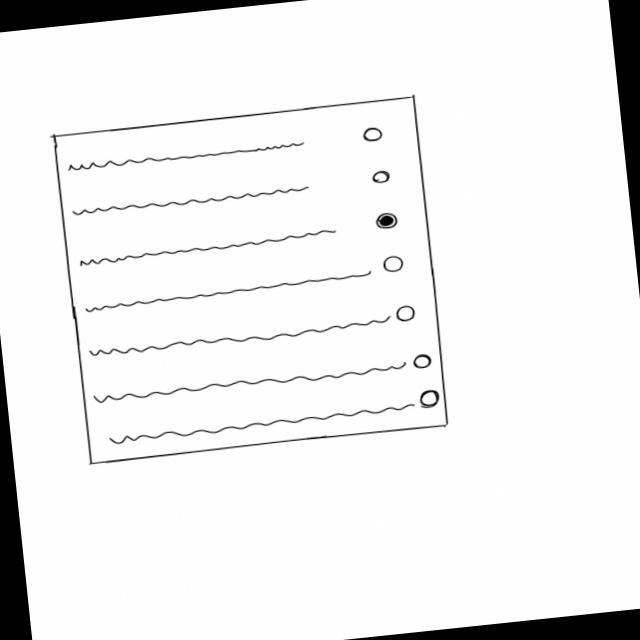container: (49, 94, 453, 469)
radio: (82, 253, 410, 317), (78, 209, 404, 271), (107, 387, 444, 446), (89, 351, 437, 406), (87, 303, 421, 360), (68, 167, 395, 220), (66, 125, 388, 176)
